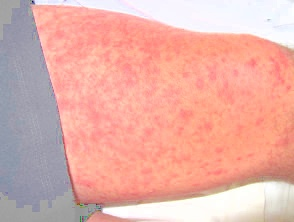SJS-TEN: (28, 0, 294, 211)
